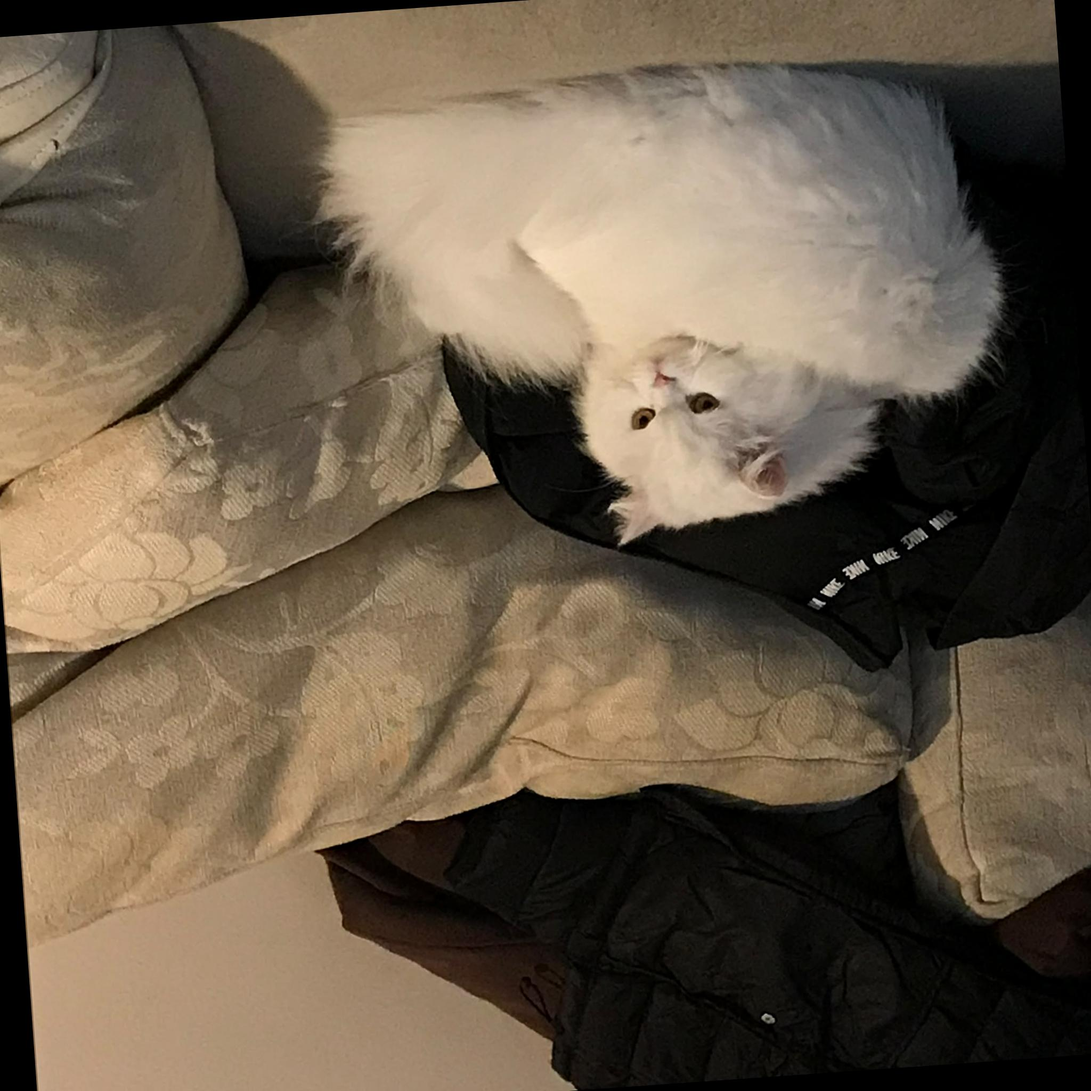macka: (314, 43, 1022, 569)
